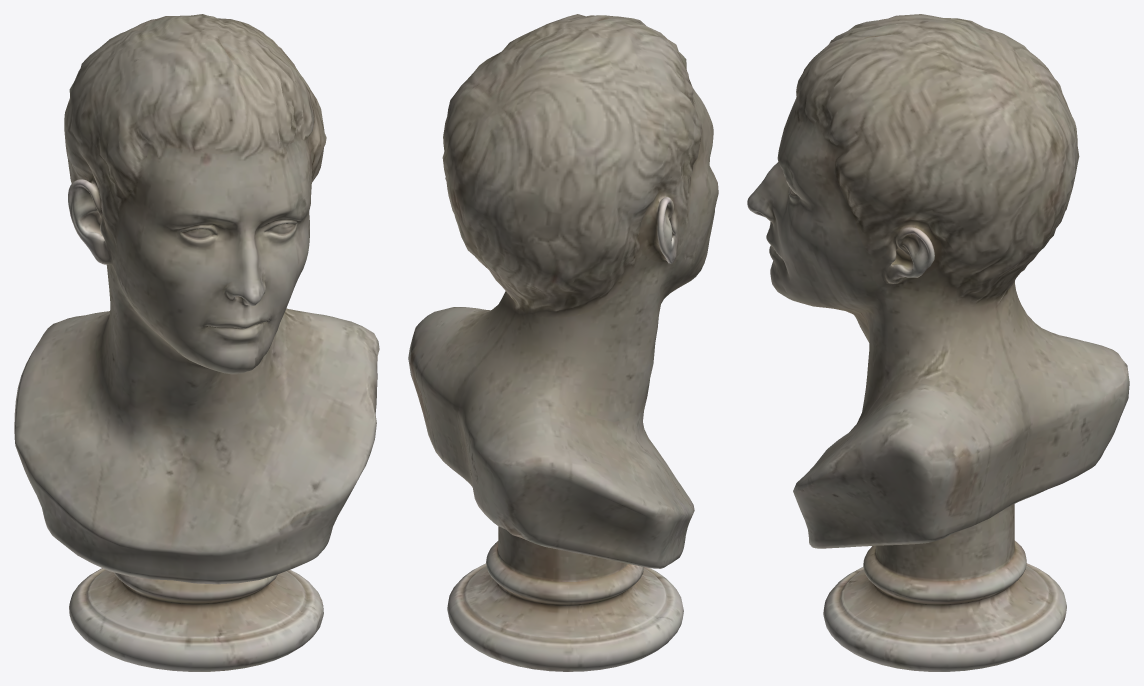
File: marble_bust_01.glb
The picture shows the model from 3 angles, left to right: view 1: azimuth 30°, elevation 25°; view 2: azimuth 150°, elevation 25°; view 3: azimuth 270°, elevation 25°; orthographic projection. The views are drawn at different scales.
Parts seen in each view (by area): view 1: marble_bust_01; view 2: marble_bust_01; view 3: marble_bust_01.
Boxes of the visible parts, x1,y1,x2,y2 form: marble_bust_01: (14, 14, 379, 671); marble_bust_01: (408, 14, 718, 671); marble_bust_01: (747, 14, 1129, 671).
Bounding box in the file's own units: 0.2717 × 0.5149 × 0.2997.
1 material, 1 textured.
